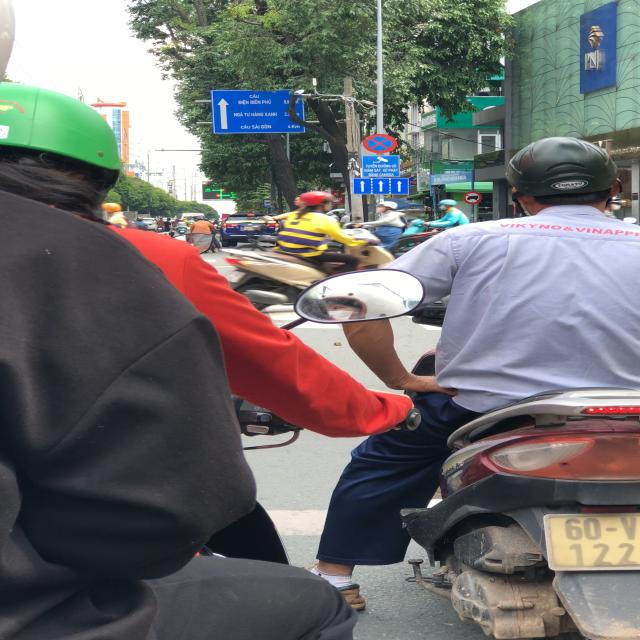Bien bao cam dung xe va do xe: (361, 131, 403, 154)
